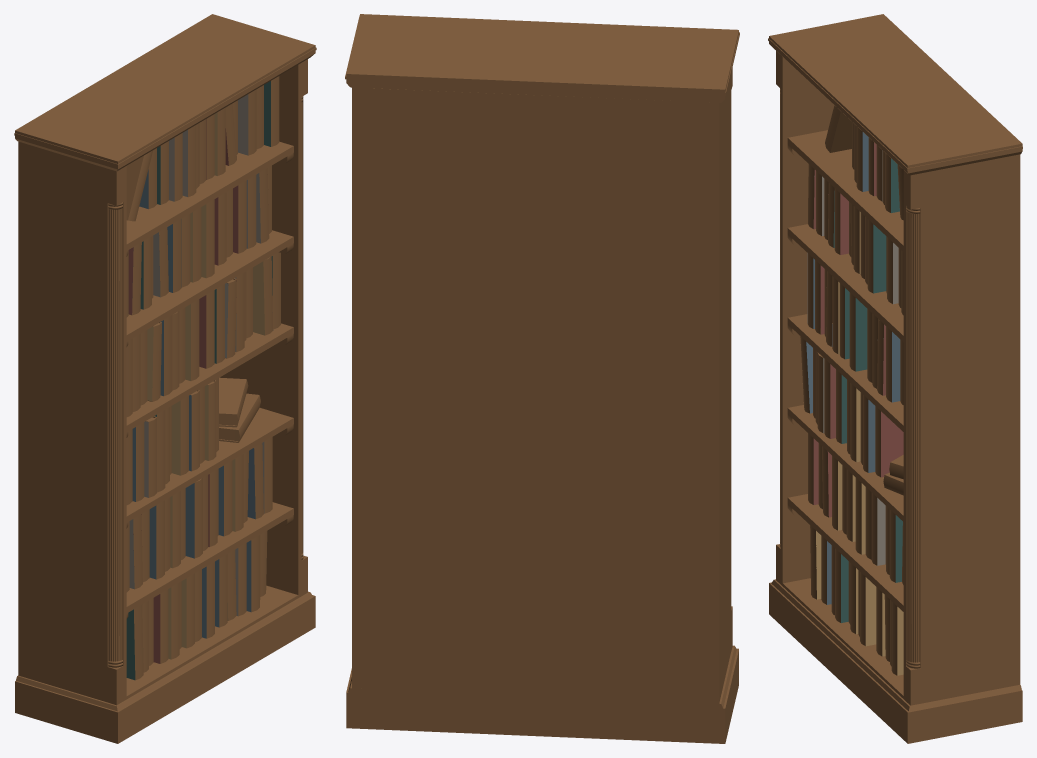
The model's file is ergoflex-tall-bookshelf.glb.
3 views of the same model, side by side, from view 1: azimuth 30°, elevation 25°; view 2: azimuth 150°, elevation 25°; view 3: azimuth 270°, elevation 25° (orthographic). The views are drawn at different scales.
Visible parts, largest first — view 1: Mesh_0, Mesh_0.005; view 2: Mesh_0; view 3: Mesh_0, Mesh_0.005.
Part boxes in pixels (x1,y1,x2,y2): Mesh_0: (14,14,316,743); Mesh_0.005: (126,81,273,680); Mesh_0: (345,14,739,743); Mesh_0: (768,14,1022,743); Mesh_0.005: (804,132,903,675).
Size of the model in its own units: 1.02 by 1.8 by 0.7184.
2 materials, 2 textured.
